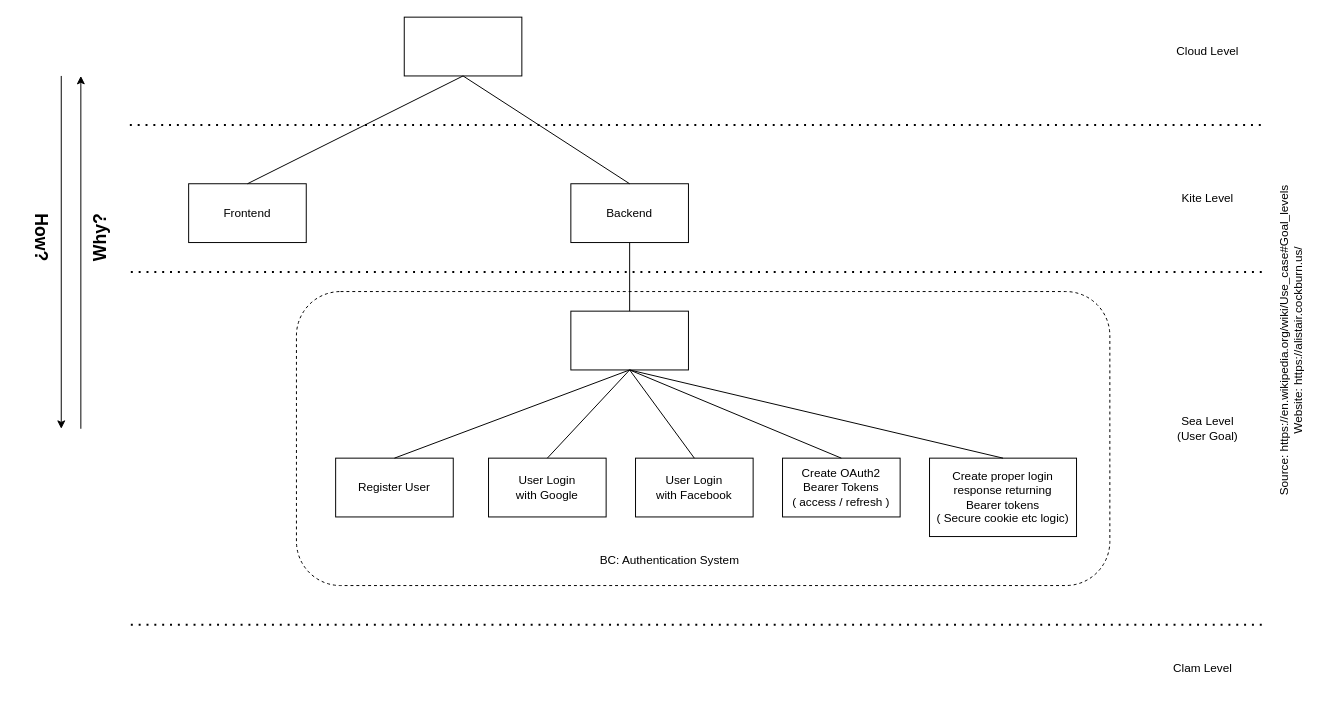
Image size: 1323x701. Some labels were removed from this diagram. The shapes that lost their labels are listed below. From the top down, each one's centre as x and y in pixels, then its label:
(462,46): The Self Actualisation Project Software
(629,340): User Login
